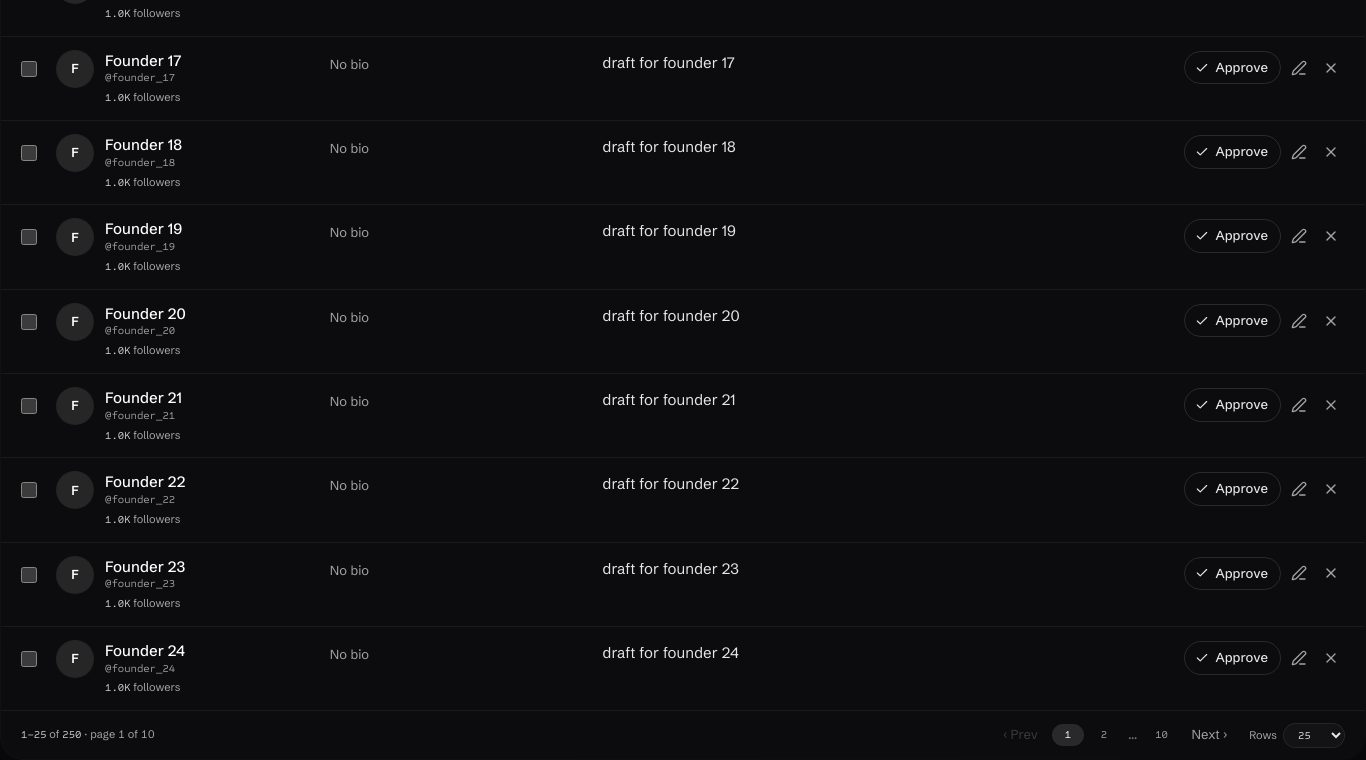
it: ApprovalQueue pagination › keeps the row you were looking at when the page size changes
(page scrolled)
Click the button "Next ›" at (1209, 735), box [1182, 721, 1237, 749]
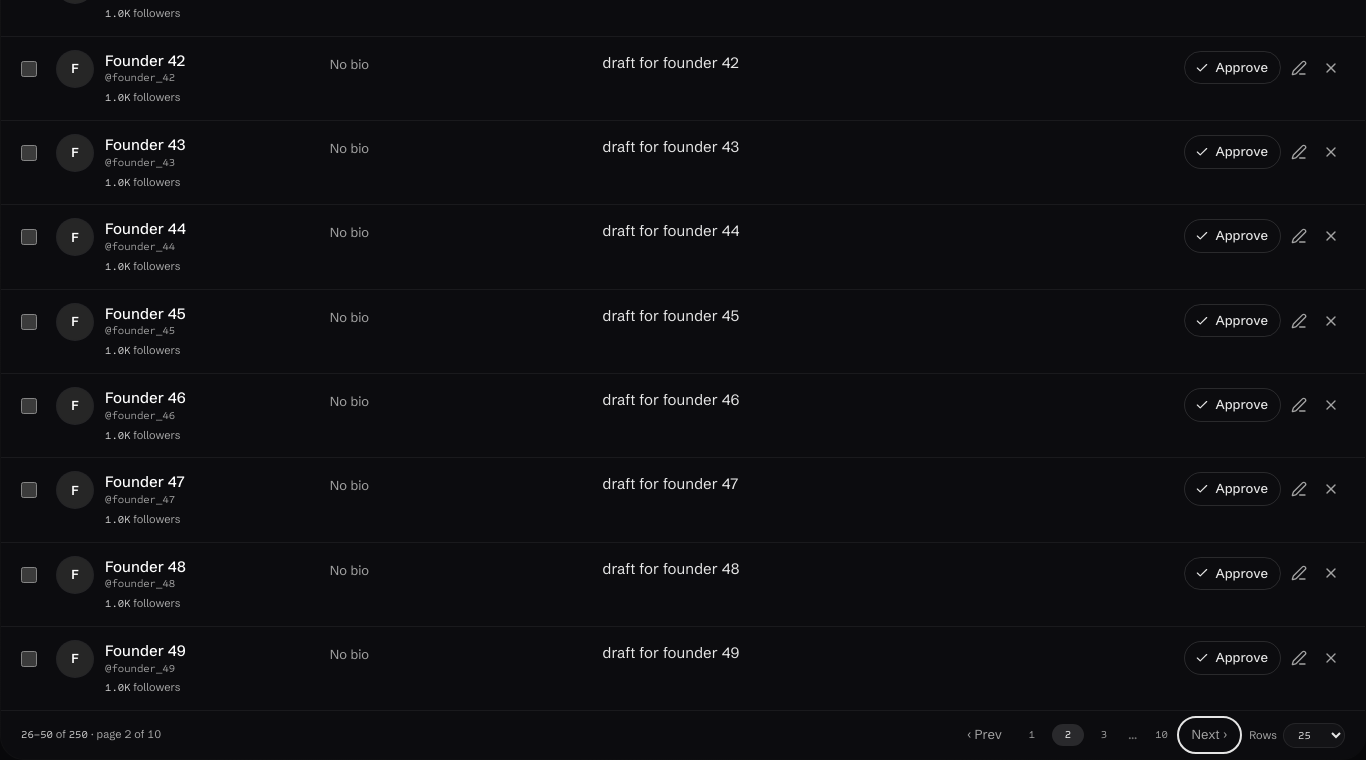
Click the button "Next ›" at (1209, 735), box [1182, 721, 1237, 749]
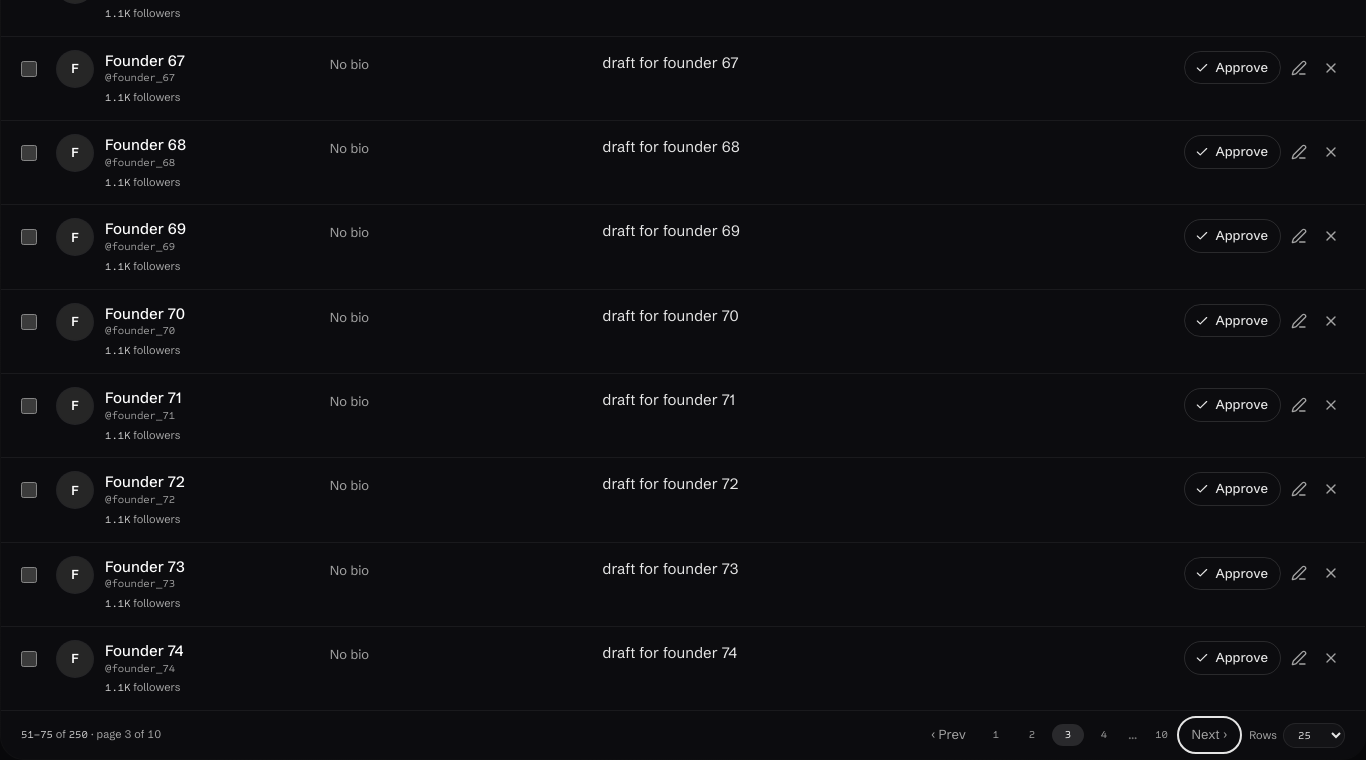
Expected: the element showing "51–75 of 250 · page 3 of 10" is shown, [21, 727, 161, 743]
Select "50" in the dropdown named "Rows per page" at (1314, 735), box [1283, 723, 1345, 748]
(page scrolled)
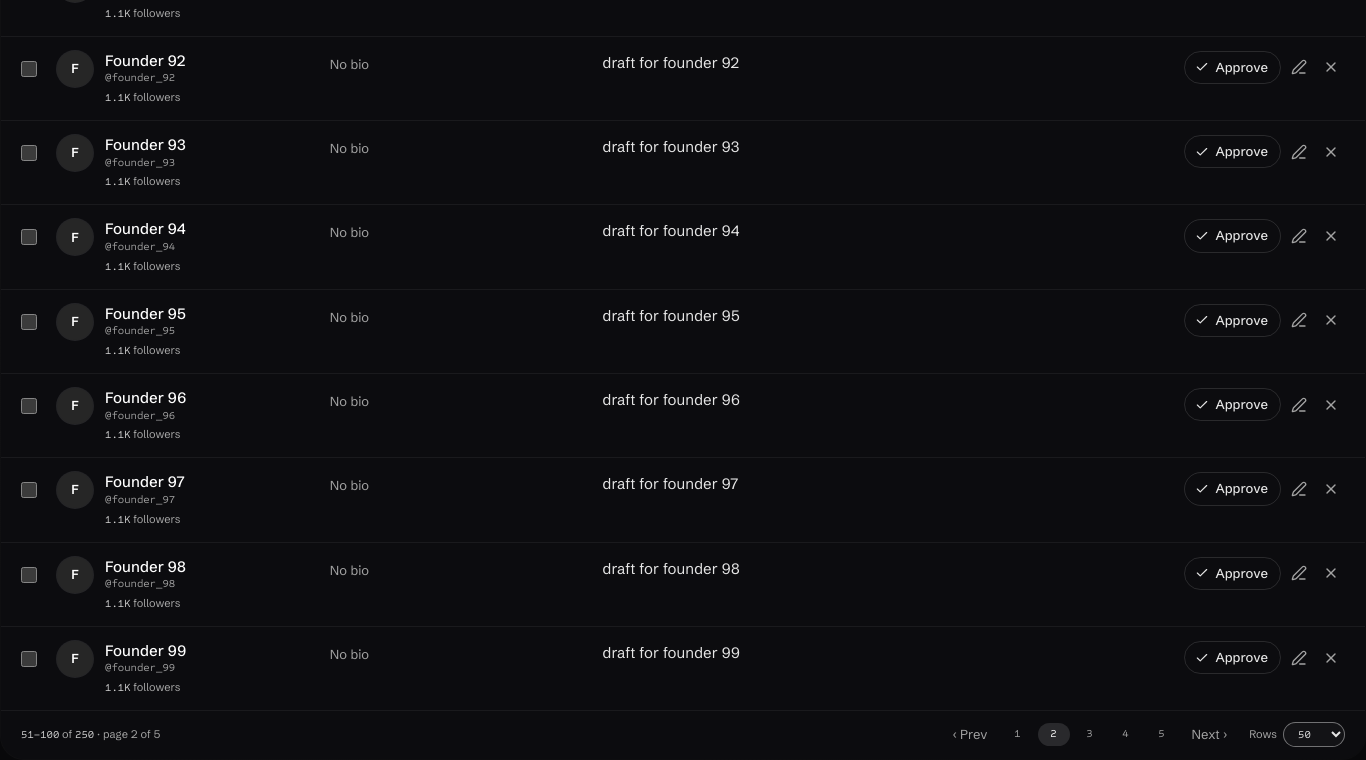
Expected: the element showing "51–100 of 250 · page 2 of 5" is shown, [21, 727, 161, 743]
